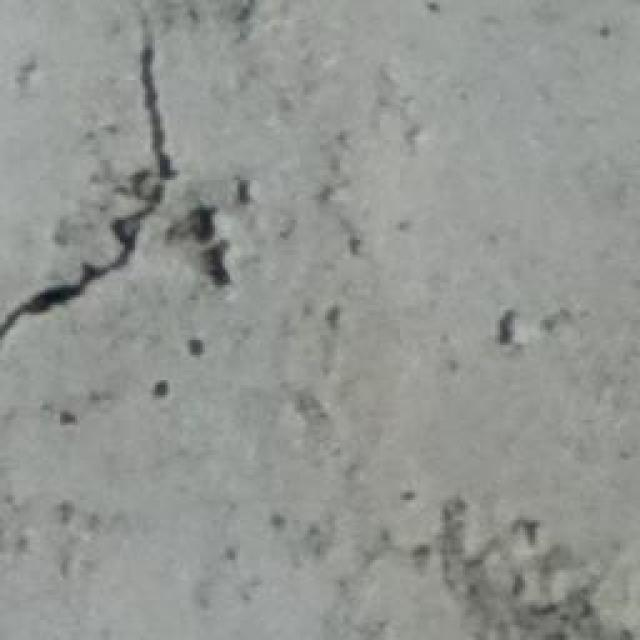Longitudinal: (0, 0, 168, 360)
Rippled: (168, 6, 640, 640)
